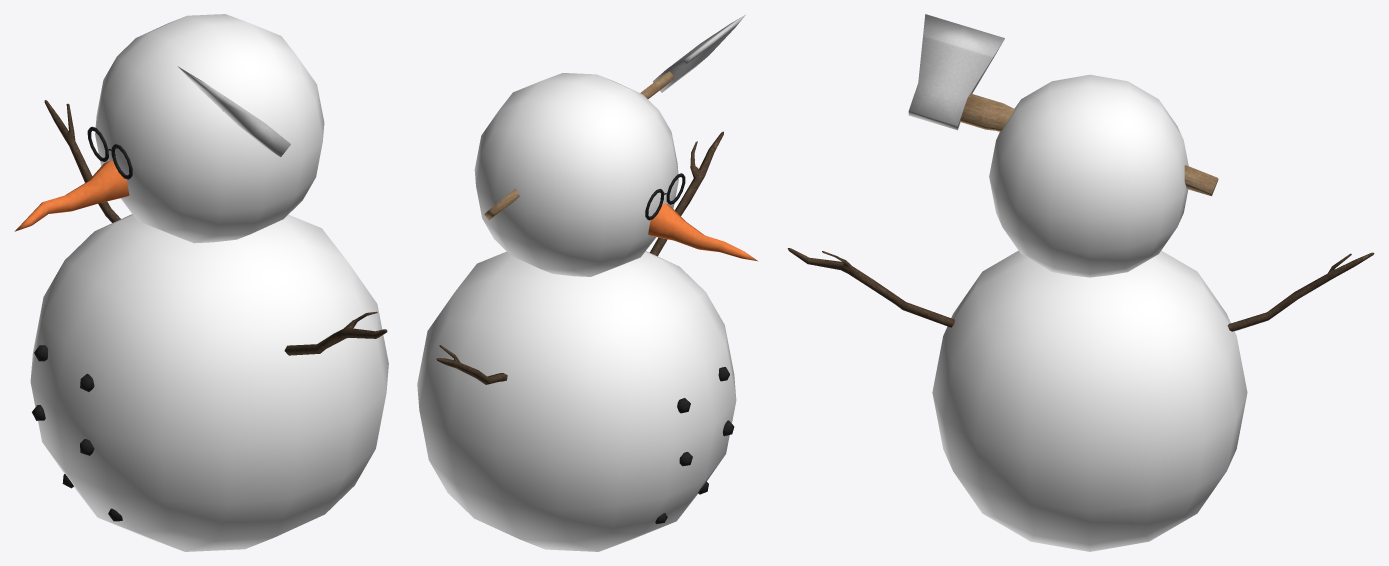
The picture shows the model from 3 angles, left to right: view 1: azimuth 30°, elevation 25°; view 2: azimuth 150°, elevation 25°; view 3: azimuth 270°, elevation 25°; orthographic projection. The views are drawn at different scales.
Parts seen in each view (by area): view 1: sm_01_body, sm_01_head, sm_01_carrot, sm_01_wood, sm_01_axe, sm_01_button, sm_01_glasses; view 2: sm_01_body, sm_01_head, sm_01_axe, sm_01_carrot, sm_01_wood, sm_01_button, sm_01_glasses; view 3: sm_01_body, sm_01_head, sm_01_axe, sm_01_wood.
Boxes of the visible parts, box(x1,y1,x2,y2) form: sm_01_body: box(30, 214, 388, 551); sm_01_head: box(95, 14, 324, 243); sm_01_carrot: box(14, 160, 129, 231); sm_01_wood: box(44, 100, 387, 355); sm_01_axe: box(177, 66, 290, 156); sm_01_button: box(32, 345, 122, 521); sm_01_glasses: box(87, 126, 132, 179); sm_01_body: box(417, 251, 736, 551); sm_01_head: box(474, 73, 678, 276); sm_01_axe: box(484, 14, 745, 219); sm_01_carrot: box(648, 203, 757, 261); sm_01_wood: box(436, 131, 723, 384); sm_01_button: box(655, 367, 734, 523); sm_01_glasses: box(645, 173, 685, 220); sm_01_body: box(932, 250, 1247, 551); sm_01_head: box(989, 74, 1188, 277); sm_01_axe: box(908, 14, 1218, 196); sm_01_wood: box(787, 248, 1374, 331).
Size of the model in its own units: 277 by 449 by 404.
